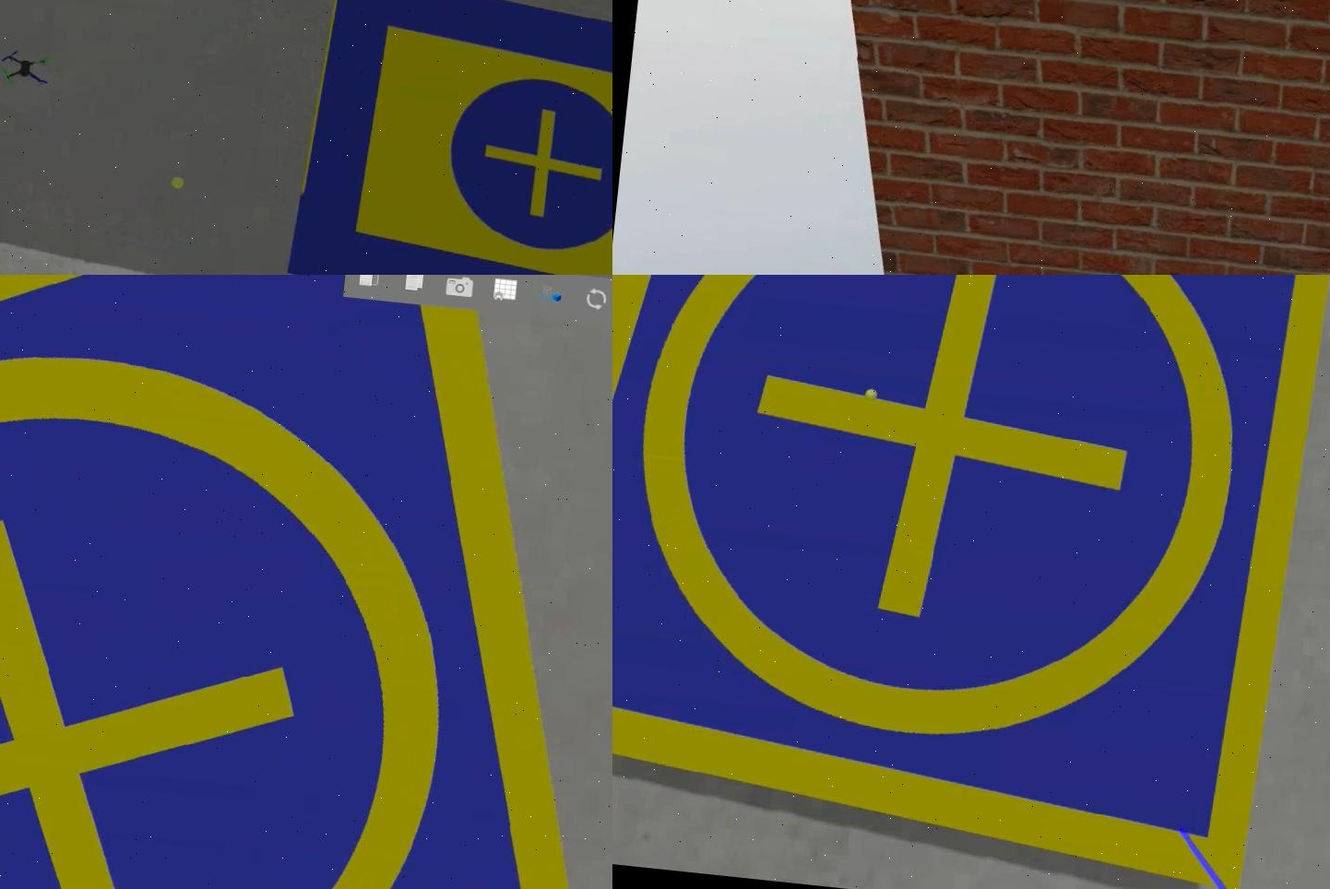large_base: (279, 1, 611, 275)
small_base: (611, 275, 1328, 889), (0, 275, 611, 889)
